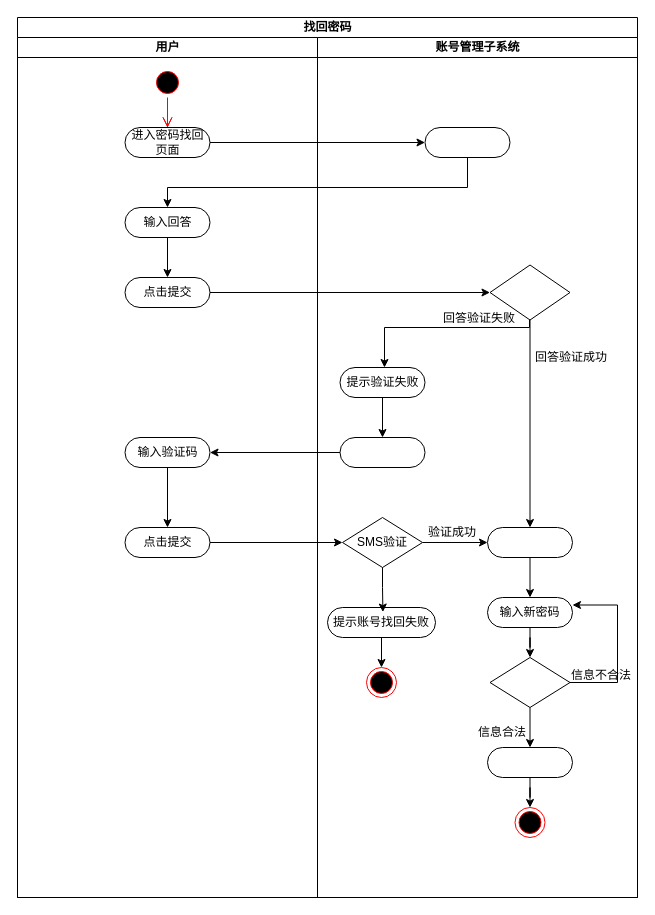
The diagram is 655 pixels wide and 915 high, and some of its shapes have lost their labels. The shapes that lost their labels are listed below. From the top down, each one's centre as x and y in pixels, then its label:
point (467, 142): 显示安全问题
point (529, 292): 验证回答
point (382, 452): 发送手机验证码
point (529, 542): 提示验证成功
point (529, 682): 验证新密码 合法性
point (529, 762): 保存新密码
